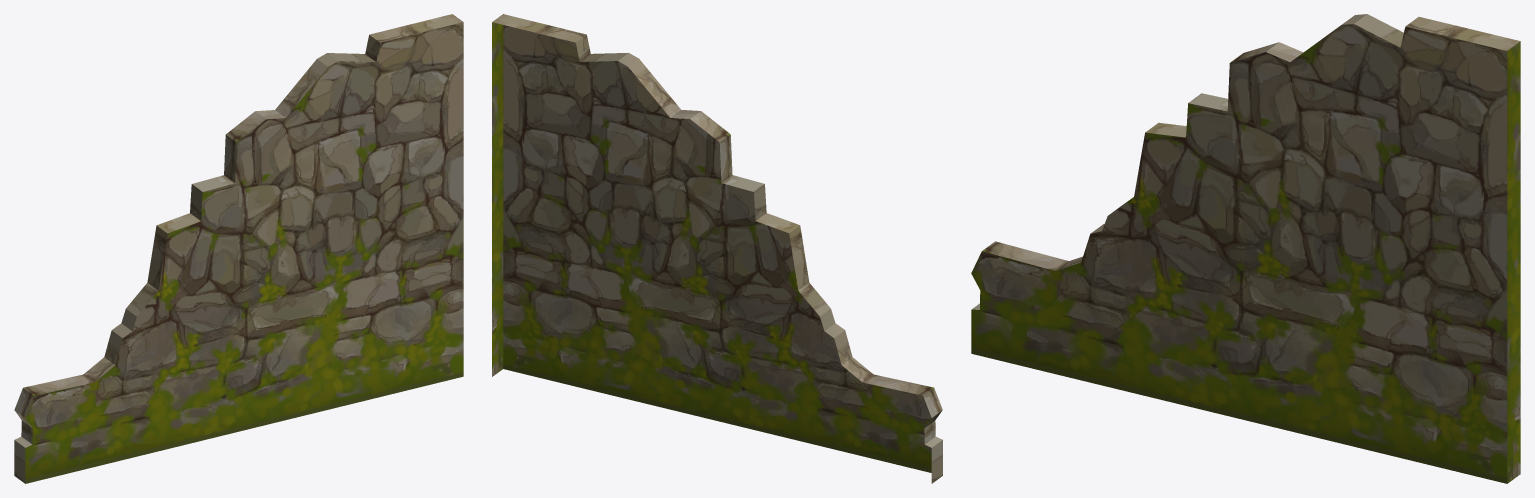
Rendered from sences_changbanpo_wujian016.FBX.
3 views of the same model, side by side, from view 1: azimuth 30°, elevation 25°; view 2: azimuth 150°, elevation 25°; view 3: azimuth 330°, elevation 25° (orthographic). The views are drawn at different scales.
Visible parts, largest first — view 1: sences_changbanpo_wujian016; view 2: sences_changbanpo_wujian016; view 3: sences_changbanpo_wujian016.
Part boxes in pixels (x1,y1,x2,y2): sences_changbanpo_wujian016: (14,14,463,483); sences_changbanpo_wujian016: (492,14,942,483); sences_changbanpo_wujian016: (971,14,1520,483).
Bounding box in the file's own units: 3.92 × 0.1783 × 3.03.
